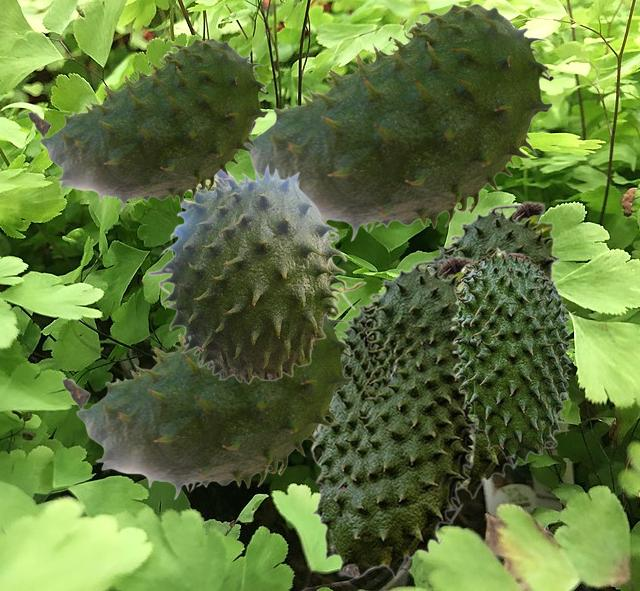guyabano: (245, 3, 553, 241), (309, 255, 478, 578), (61, 317, 353, 499), (147, 162, 366, 384), (27, 38, 268, 211), (428, 200, 559, 499), (450, 246, 573, 462)
